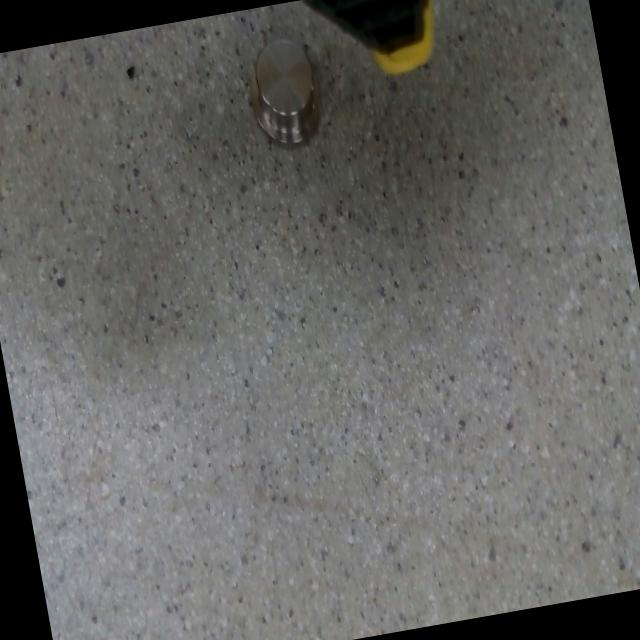sensor: (239, 30, 330, 153)
